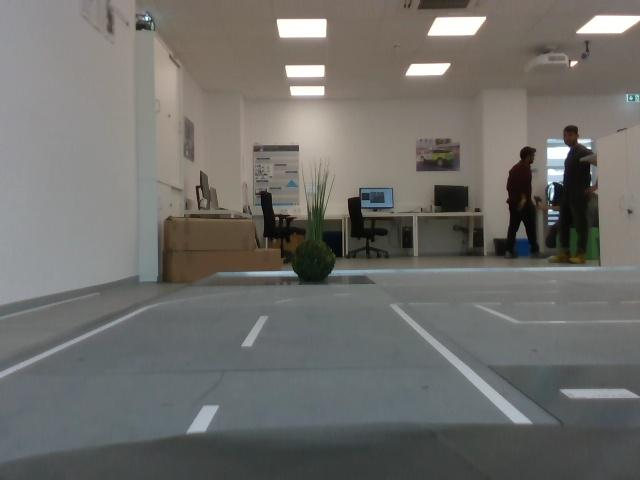potted plant: (297, 163, 340, 234), (289, 238, 339, 286)
